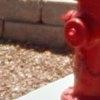Hydrant: (55, 3, 100, 100)
